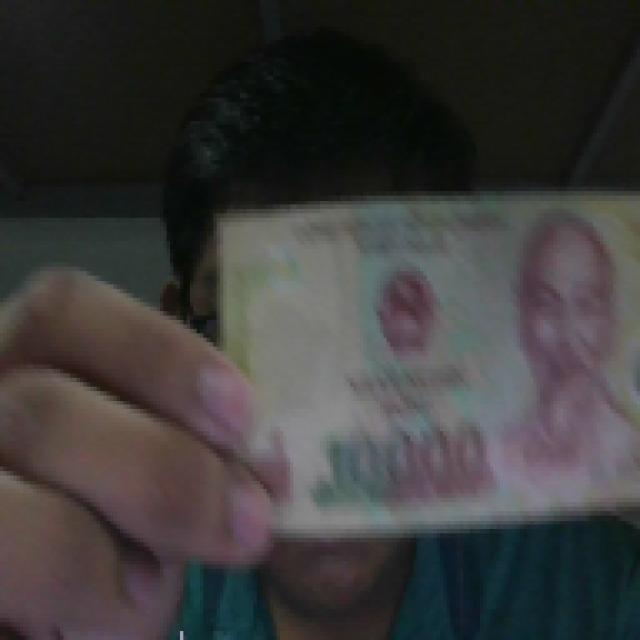10 000 VND: (210, 182, 637, 542)
